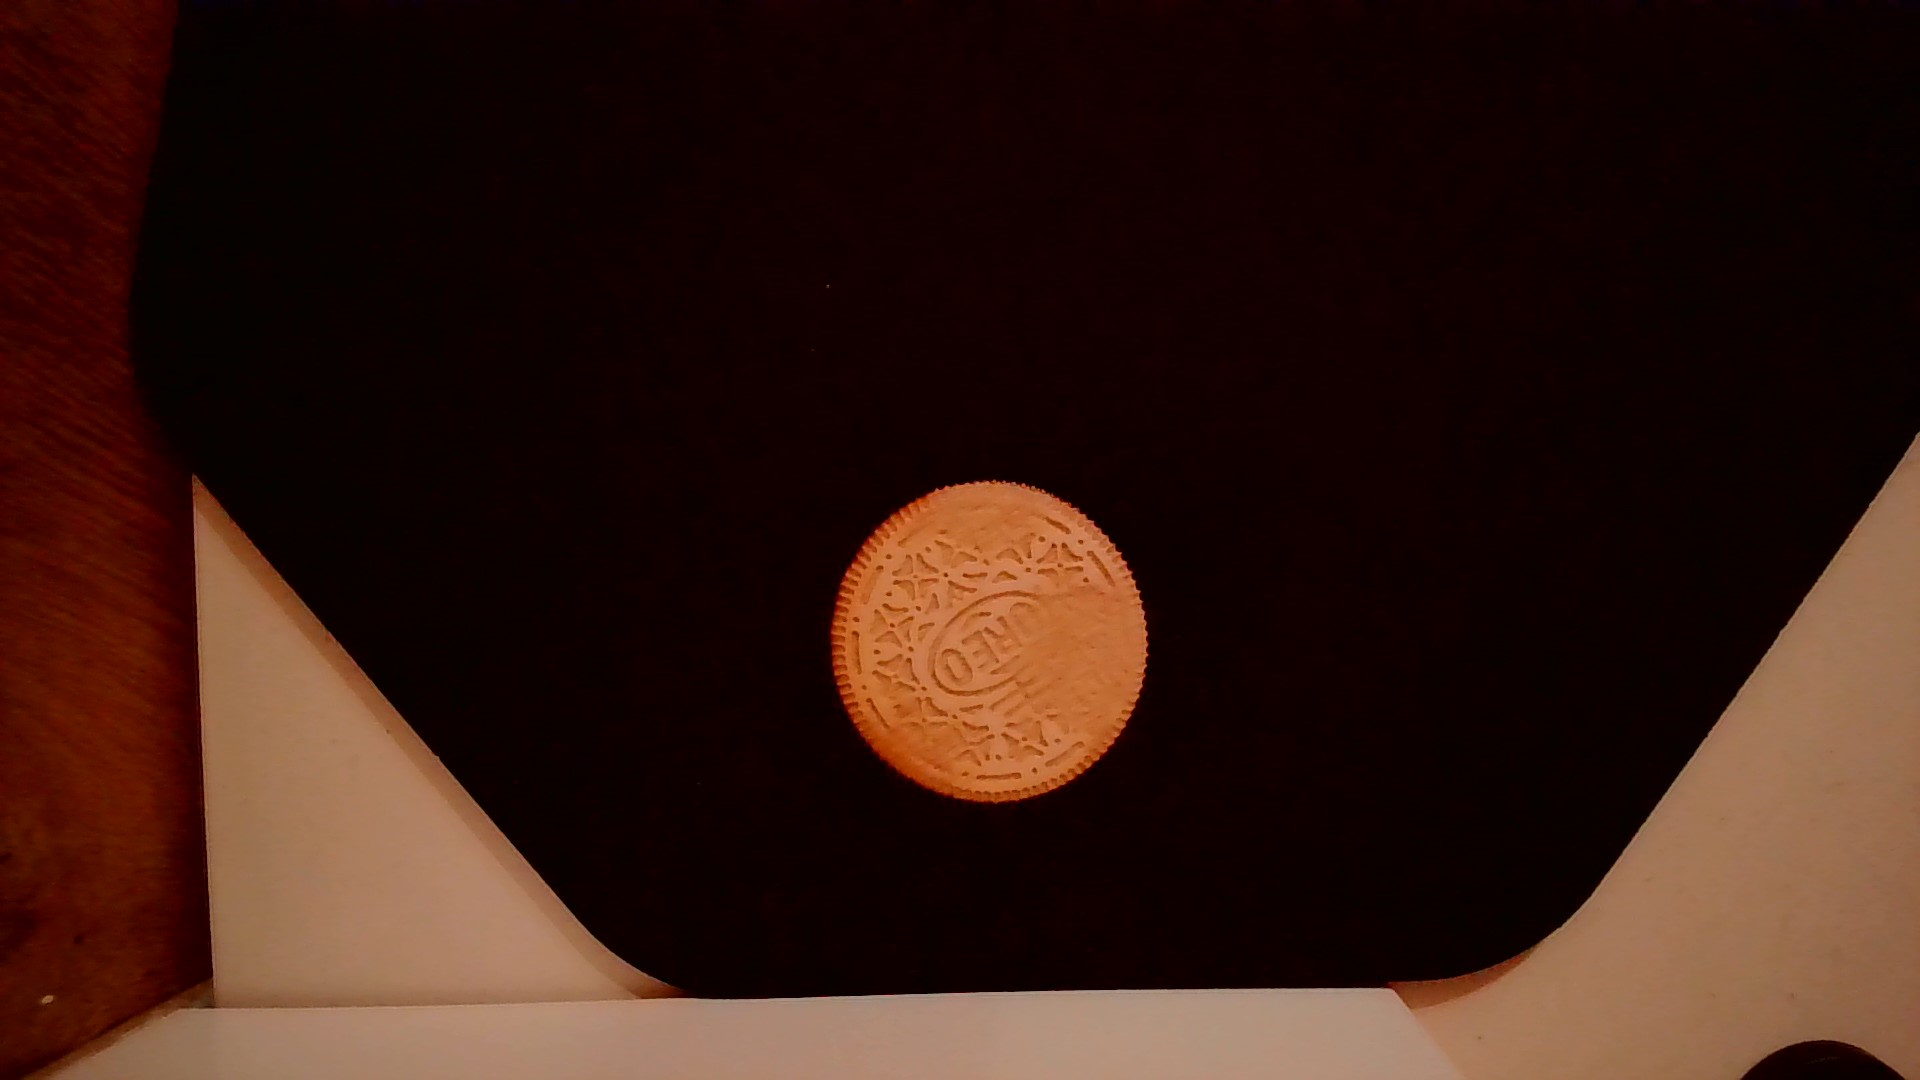Effacé: (1021, 595, 1149, 741), (855, 705, 956, 802), (907, 475, 1048, 542)
Oréo: (825, 477, 1153, 808)
